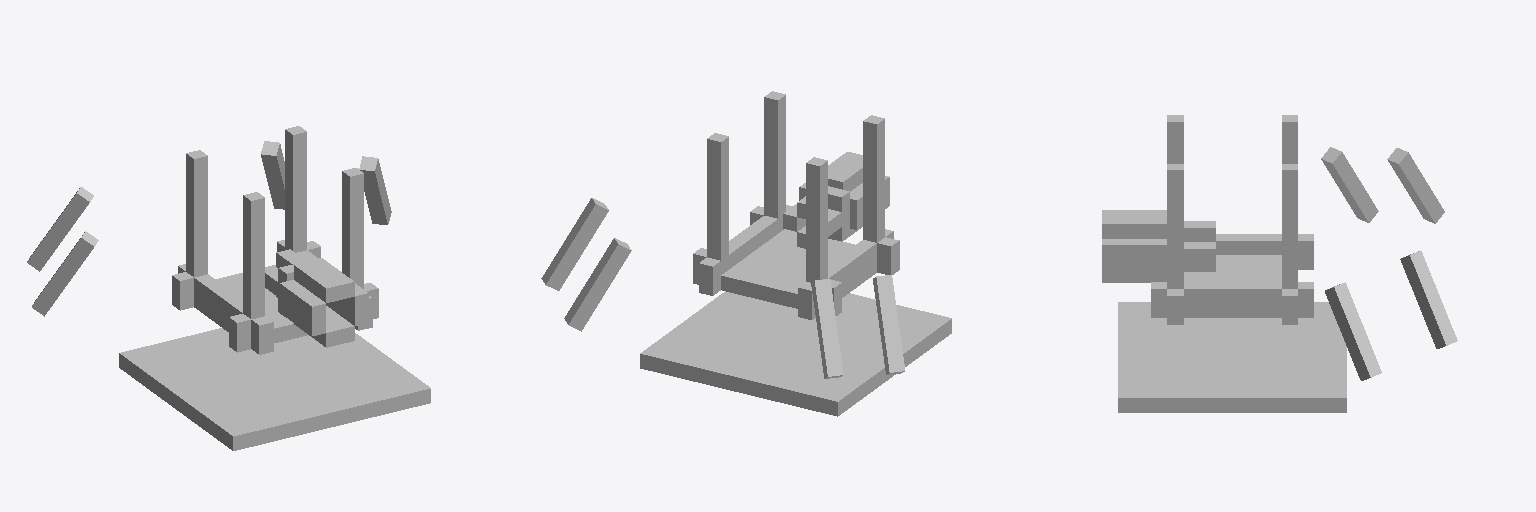
The model's file is chargingStation.obj.
The picture shows the model from 3 angles: view 1: azimuth 30°, elevation 25°; view 2: azimuth 150°, elevation 25°; view 3: azimuth 270°, elevation 25°; orthographic projection.
Visible parts, largest first — view 1: Base, ChargePad; view 2: Base, ChargePad; view 3: Base, ChargePad.
Part boxes in pixels (bbox=[...]): Base: bbox=[27, 141, 430, 450]; ChargePad: bbox=[172, 126, 378, 354]; Base: bbox=[541, 152, 951, 416]; ChargePad: bbox=[693, 91, 899, 319]; Base: bbox=[1102, 147, 1457, 412]; ChargePad: bbox=[1151, 115, 1313, 324].
Bounding box in the file's own units: 1.6 × 0.9375 × 1.36.